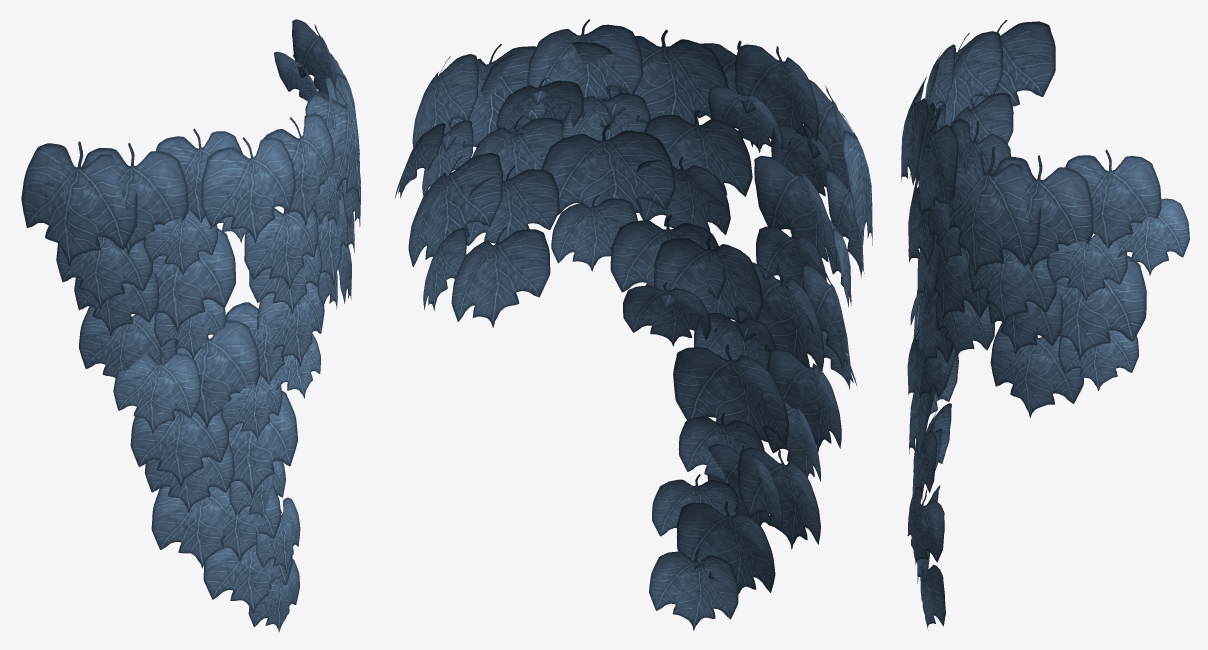
File: MarshVineBunch_b01.fbx
The picture shows the model from 3 angles, left to right: view 1: azimuth 30°, elevation 25°; view 2: azimuth 150°, elevation 25°; view 3: azimuth 270°, elevation 25°; orthographic projection. The views are drawn at different scales.
Parts seen in each view (by area): view 1: VineBunch_b01; view 2: VineBunch_b01; view 3: VineBunch_b01.
Boxes of the visible parts, left/top/right/bottom form: VineBunch_b01: left=21, top=19, right=360, bottom=631; VineBunch_b01: left=395, top=19, right=872, bottom=630; VineBunch_b01: left=901, top=20, right=1189, bottom=630.
Size of the model in its own units: 216 by 319 by 153.
